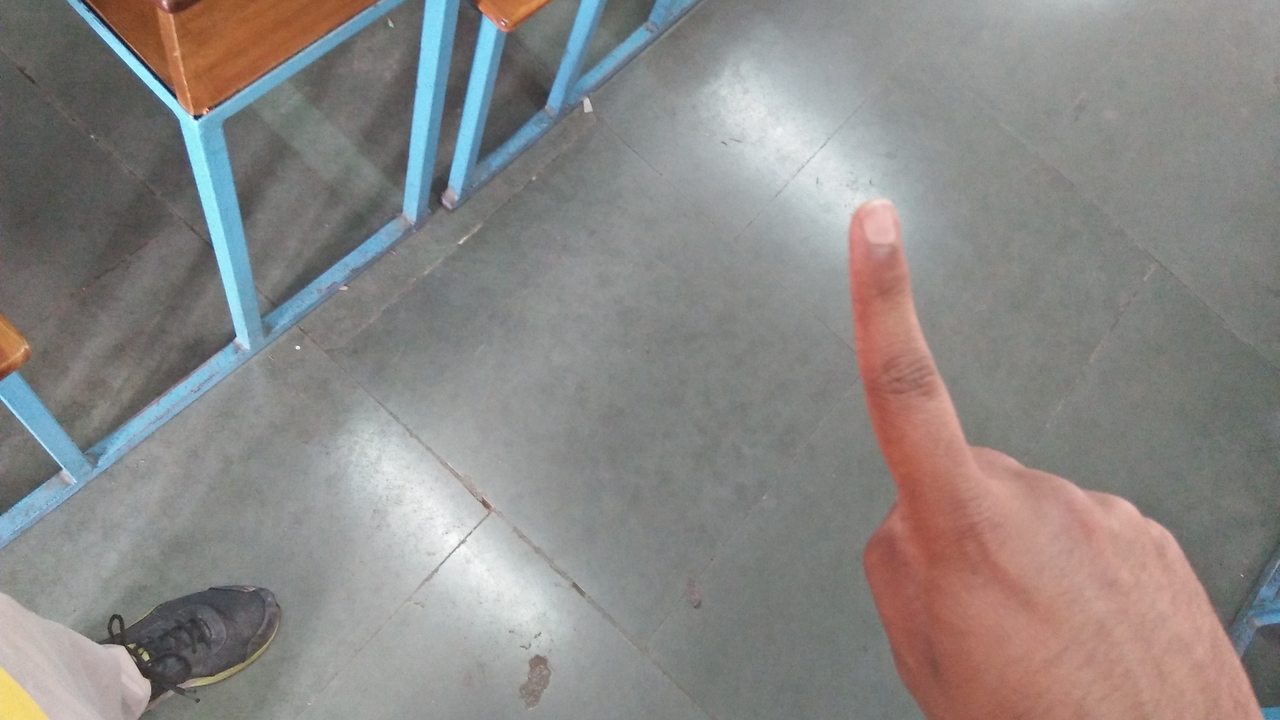fingertip: (848, 190, 916, 256)
